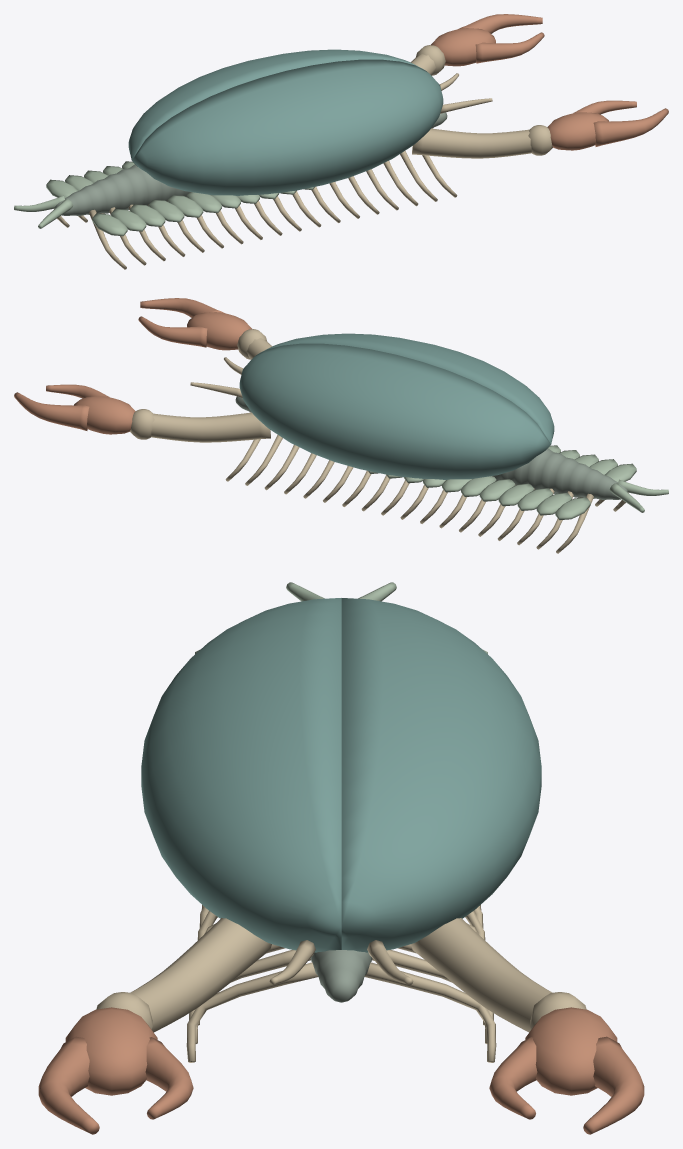
The model's file is tokummia.glb.
3 renders of one model, top to bottom at view 1: azimuth 30°, elevation 25°; view 2: azimuth 150°, elevation 25°; view 3: azimuth 270°, elevation 25°, orthographic. The views are drawn at different scales.
Visible parts, largest first — view 1: broad-paired-lobate-carapace-valves, large-articulated-front-pincers-with-open-gaps, economical-jointed-walking-limbs-and-flaps, continuous-long-tapered-segmented-trunk, short-antennules-and-paired-caudal-rami; view 2: broad-paired-lobate-carapace-valves, large-articulated-front-pincers-with-open-gaps, economical-jointed-walking-limbs-and-flaps, continuous-long-tapered-segmented-trunk, short-antennules-and-paired-caudal-rami; view 3: broad-paired-lobate-carapace-valves, large-articulated-front-pincers-with-open-gaps, economical-jointed-walking-limbs-and-flaps, continuous-long-tapered-segmented-trunk, short-antennules-and-paired-caudal-rami.
Part boxes in pixels (x1,y1,x2,y2): broad-paired-lobate-carapace-valves: (128, 49, 443, 195); large-articulated-front-pincers-with-open-gaps: (410, 14, 668, 158); economical-jointed-walking-limbs-and-flaps: (46, 151, 457, 269); continuous-long-tapered-segmented-trunk: (55, 112, 447, 215); short-antennules-and-paired-caudal-rami: (14, 73, 492, 228); broad-paired-lobate-carapace-valves: (239, 333, 554, 479); large-articulated-front-pincers-with-open-gaps: (14, 298, 272, 442); economical-jointed-walking-limbs-and-flaps: (225, 435, 636, 553); continuous-long-tapered-segmented-trunk: (235, 396, 627, 499); short-antennules-and-paired-caudal-rami: (190, 357, 668, 512); broad-paired-lobate-carapace-valves: (141, 598, 541, 952); large-articulated-front-pincers-with-open-gaps: (38, 918, 644, 1134); economical-jointed-walking-limbs-and-flaps: (186, 649, 496, 1062); continuous-long-tapered-segmented-trunk: (310, 950, 372, 1002); short-antennules-and-paired-caudal-rami: (269, 582, 413, 984).
Bounding box in the file's own units: 0.1 × 0.0216 × 0.0452.
